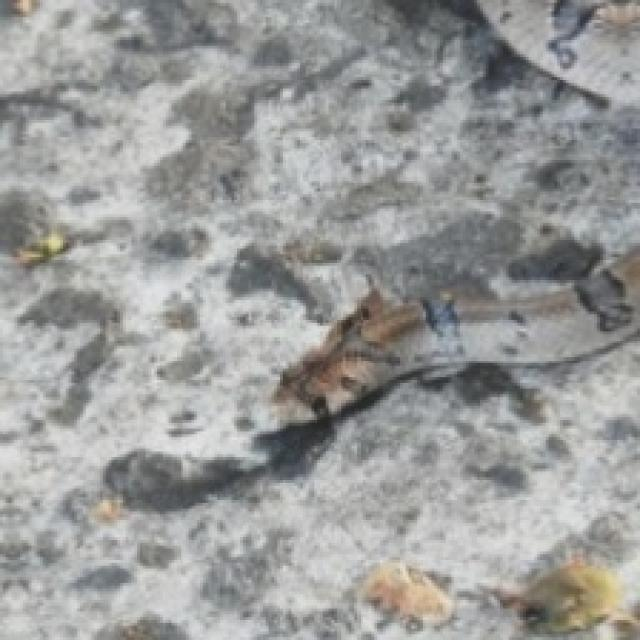northern short-headed snake: (271, 249, 637, 426), (478, 0, 640, 108)
